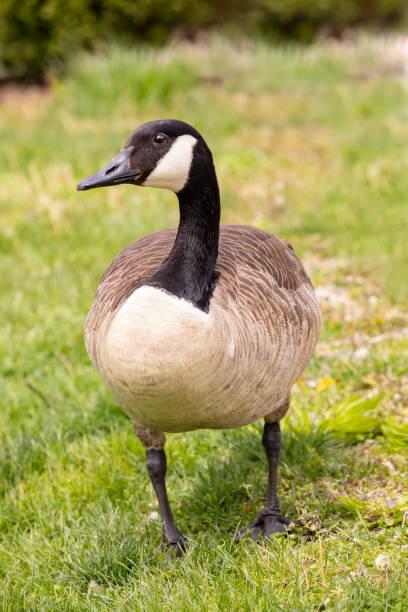Canadian-Goose: (69, 118, 325, 540)
